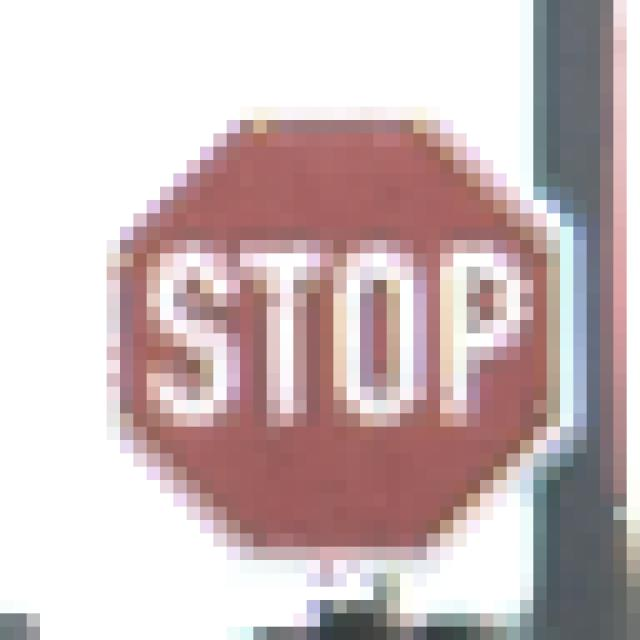STOP: (81, 81, 574, 574)
